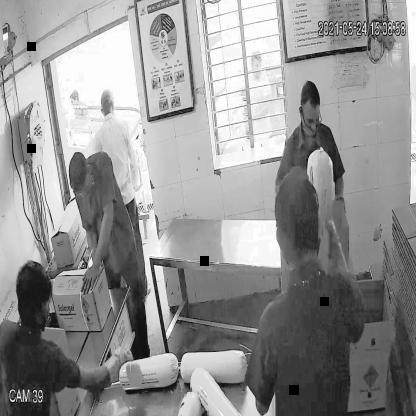goggles: (297, 106, 323, 130)
